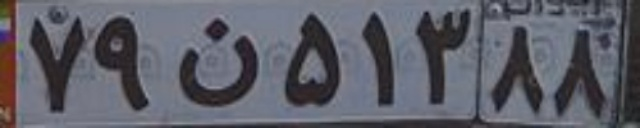1: (358, 9, 395, 106)
3: (412, 8, 474, 103)
5: (282, 14, 344, 106)
7: (27, 15, 85, 114)
8: (551, 27, 609, 118), (490, 26, 540, 114)
9: (94, 15, 150, 111)
non: (175, 17, 259, 109)
